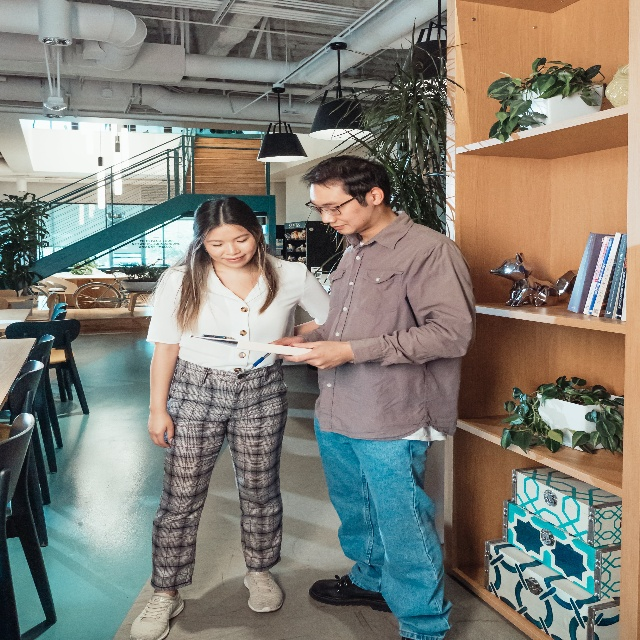Gafas: (305, 193, 362, 216)
Sin_guantes: (283, 340, 348, 371), (147, 407, 175, 449), (268, 335, 304, 346)
